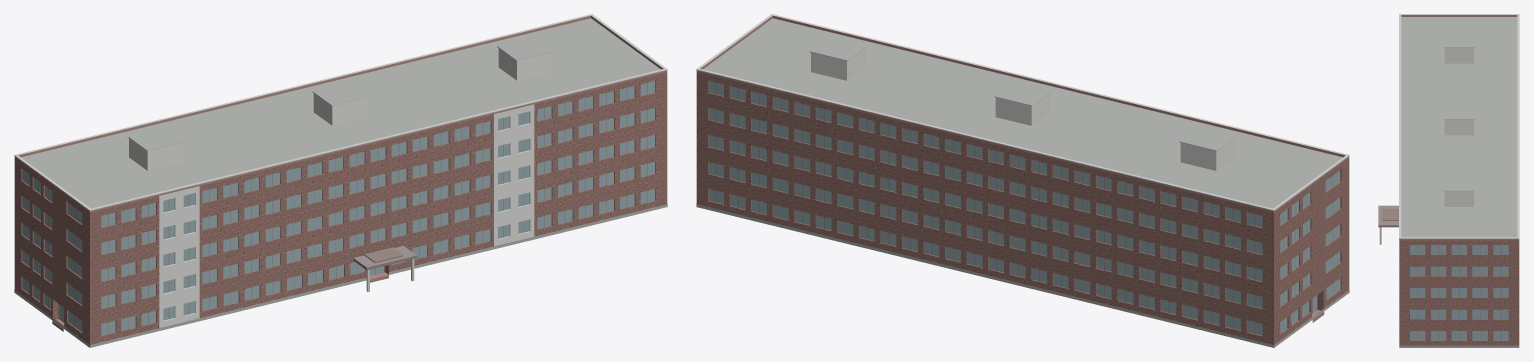
3 views of the same model, side by side, from view 1: azimuth 30°, elevation 25°; view 2: azimuth 150°, elevation 25°; view 3: azimuth 270°, elevation 25° (orthographic). The views are drawn at different scales.
Visible parts, largest first — view 1: b115951754__wall, b115951754__roof, b115951754__glass, b115951754__wall2, b115951754__trim, b115951754__parapet, b115951754__frame, b115951754__base, b115951754__canopy; view 2: b115951754__wall, b115951754__roof, b115951754__glass, b115951754__trim, b115951754__parapet, b115951754__wall2, b115951754__base, b115951754__frame; view 3: b115951754__roof, b115951754__wall, b115951754__glass, b115951754__trim, b115951754__wall2, b115951754__parapet, b115951754__base, b115951754__frame, b115951754__canopy, b115951754__canopyTop.
Boxes of the visible parts, box(x1,y1,x2,y2) form: b115951754__wall: box(14, 72, 667, 347); b115951754__roof: box(21, 18, 660, 208); b115951754__glass: box(22, 81, 655, 335); b115951754__wall2: box(129, 48, 552, 327); b115951754__trim: box(14, 14, 667, 210); b115951754__parapet: box(14, 15, 667, 212); b115951754__frame: box(26, 82, 647, 334); b115951754__base: box(14, 204, 667, 347); b115951754__canopy: box(353, 247, 416, 270); b115951754__wall: box(696, 72, 1349, 347); b115951754__roof: box(703, 18, 1342, 208); b115951754__glass: box(708, 81, 1340, 335); b115951754__trim: box(696, 14, 1349, 210); b115951754__parapet: box(696, 15, 1349, 212); b115951754__wall2: box(811, 48, 1234, 170); b115951754__base: box(696, 204, 1349, 347); b115951754__frame: box(716, 82, 1333, 333); b115951754__roof: box(1401, 17, 1517, 237); b115951754__wall: box(1399, 240, 1519, 345); b115951754__glass: box(1410, 245, 1508, 340); b115951754__trim: box(1399, 14, 1519, 238); b115951754__wall2: box(1444, 48, 1473, 206); b115951754__parapet: box(1399, 15, 1519, 240); b115951754__base: box(1399, 345, 1519, 347); b115951754__frame: box(1417, 245, 1501, 340); b115951754__canopy: box(1378, 209, 1398, 227); b115951754__canopyTop: box(1378, 205, 1398, 225).
Bounding box in the file's own units: 80.65 × 21.2 × 21.44.
15 materials, 1 textured.
